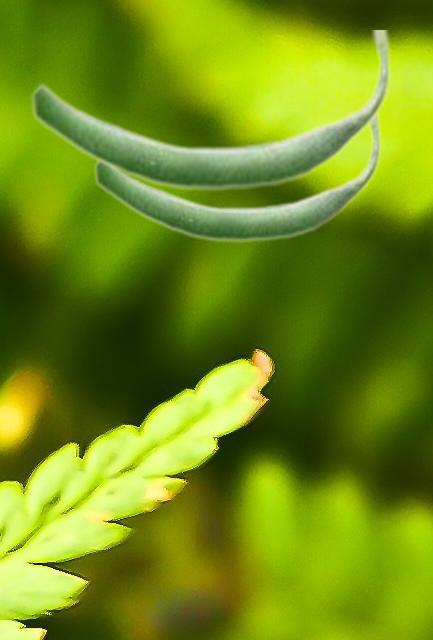french_bean: (30, 30, 391, 192), (93, 116, 381, 243)
